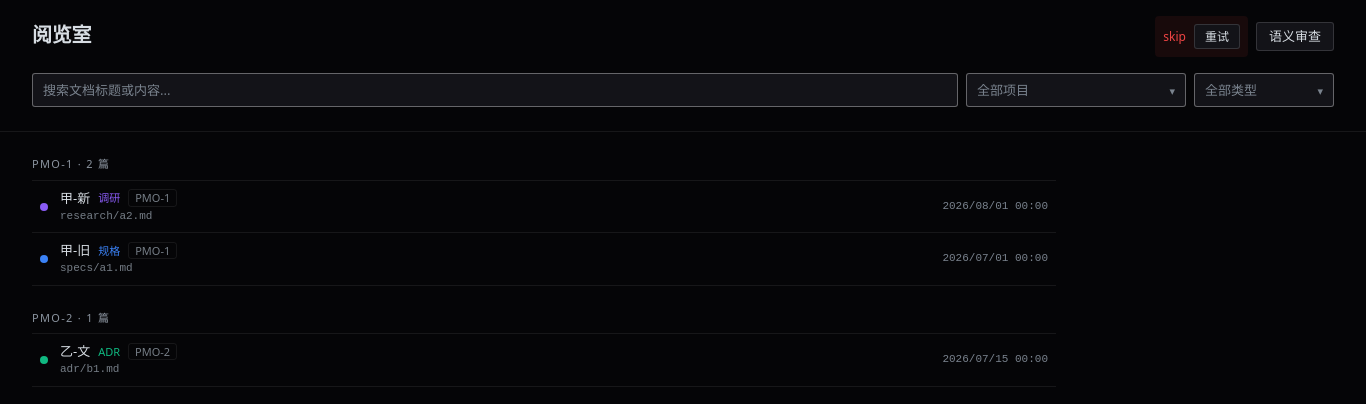
Test case: LibraryPage（#155 T5 阅览室） › E6 列表按项目分组 › 项目筛选态回退平铺：无组头
Expected: the text "甲-新" is shown, [60, 189, 90, 207]
Click the button with aria-label "项目筛选".
click(1076, 90)  # box [966, 73, 1186, 107]
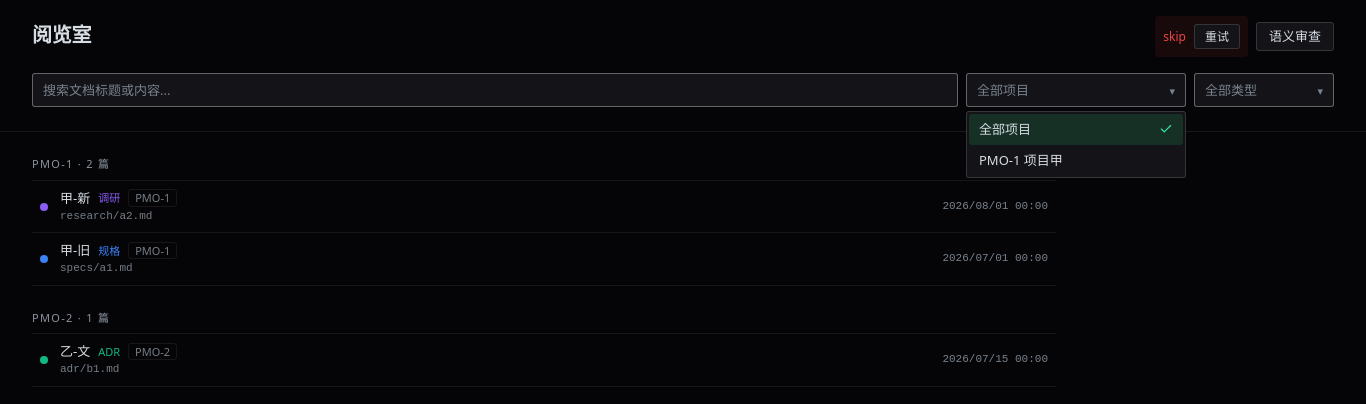
Click the option "PMO-1 项目甲".
click(1021, 160)  # box [979, 150, 1063, 168]
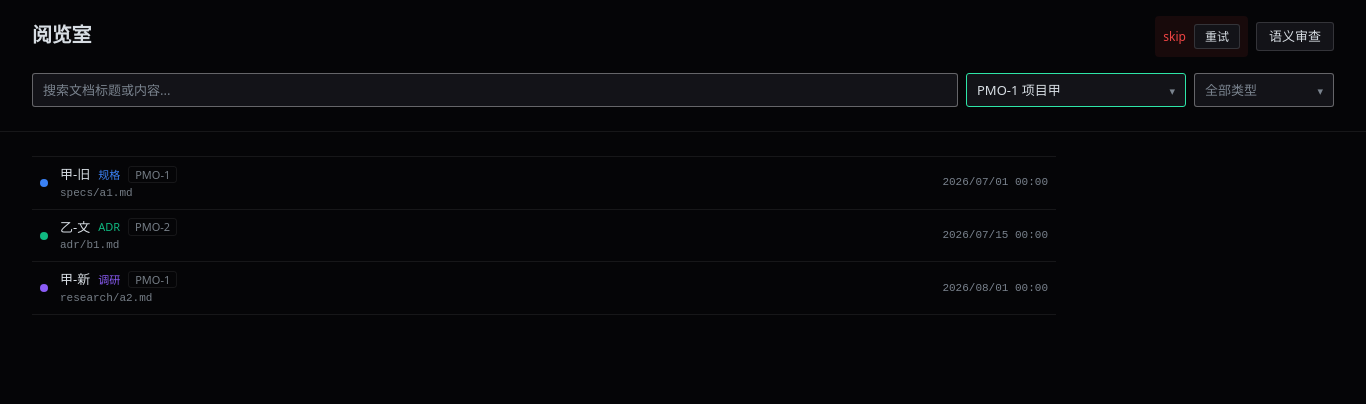
Now the heading "PMO-1 · 2 篇" is gone
Now the text "甲-新" is shown, box [60, 270, 90, 289]
